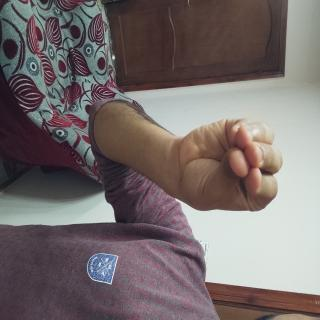HA: (85, 43, 173, 224)
